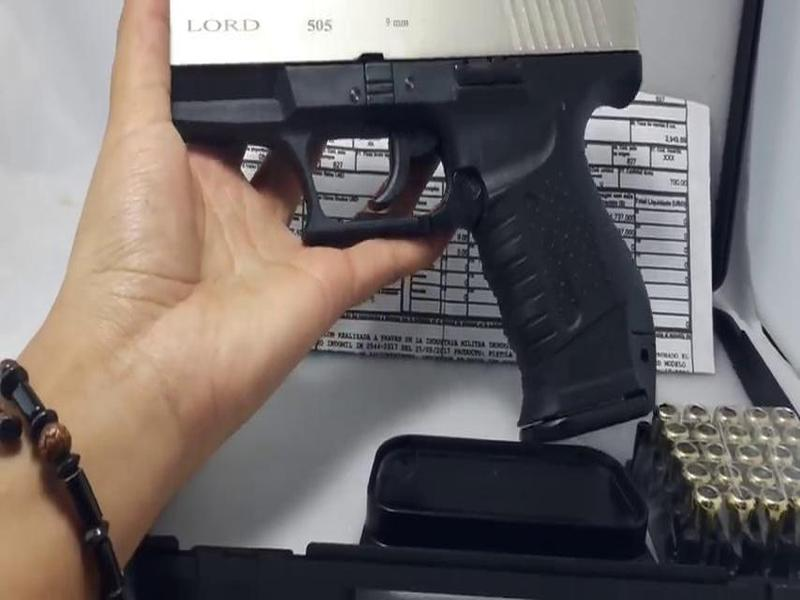Pistola: (148, 3, 701, 447)
